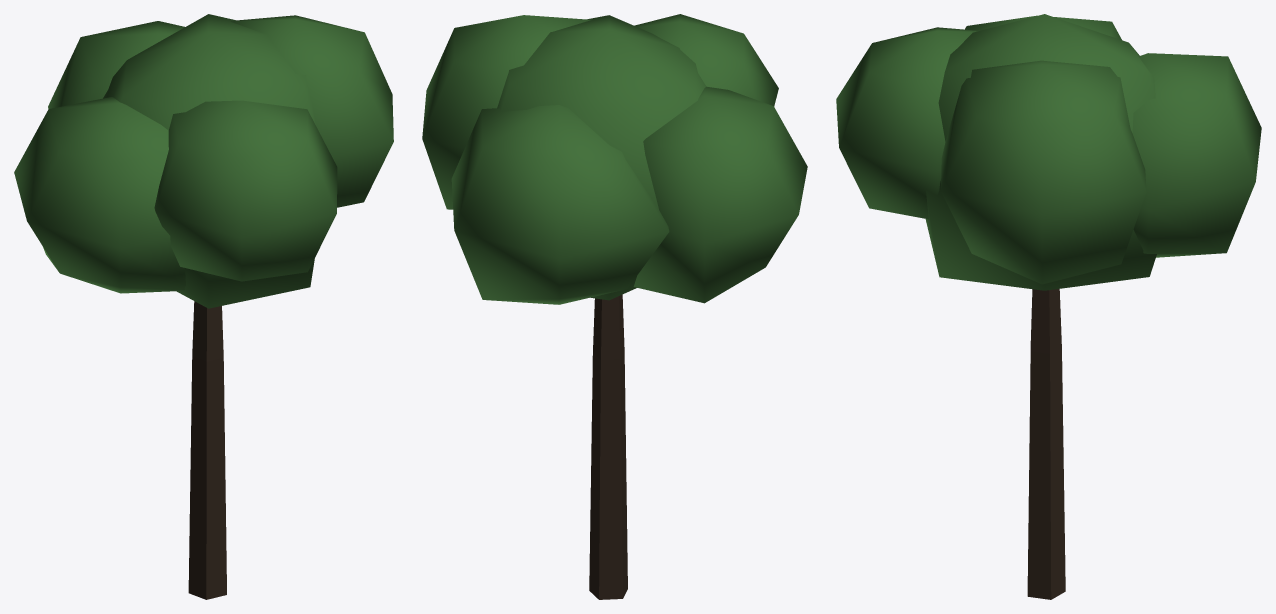
File: tree_04.glb
3 renders of one model, left to right at view 1: azimuth 30°, elevation 25°; view 2: azimuth 150°, elevation 25°; view 3: azimuth 270°, elevation 25°, orthographic. The views are drawn at different scales.
Parts seen in each view (by area): view 1: 树_04; view 2: 树_04; view 3: 树_04.
Boxes of the visible parts, x1=… form: 树_04: x1=14, y1=14, x2=393, y2=599; 树_04: x1=422, y1=14, x2=807, y2=599; 树_04: x1=836, y1=14, x2=1261, y2=599.
Bounding box in the file's own units: 6.33 × 9.2 × 6.14.
